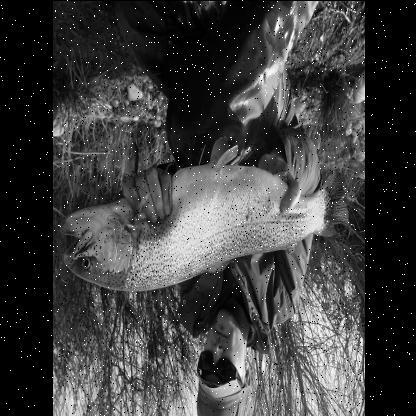fish: (59, 165, 350, 292)
